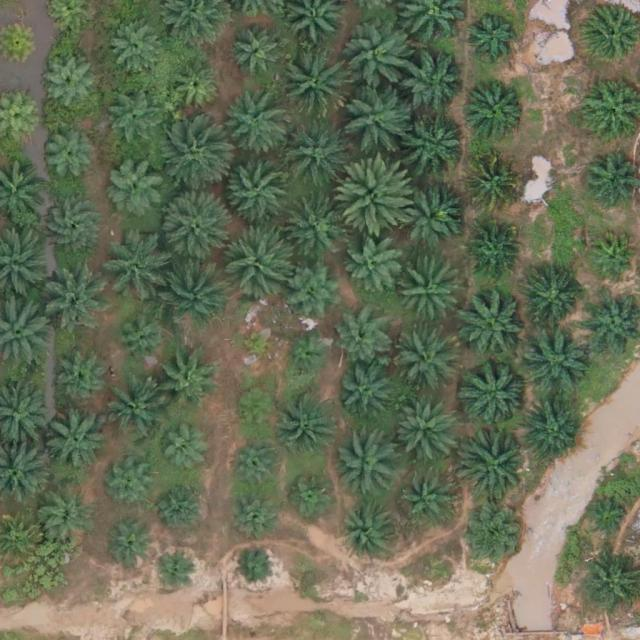Healthy: (339, 158, 417, 237), (520, 324, 591, 395), (281, 119, 352, 190), (459, 289, 529, 360), (461, 359, 532, 429), (340, 82, 410, 153), (279, 49, 349, 120), (222, 227, 292, 298), (159, 256, 229, 327), (41, 259, 111, 330), (344, 23, 415, 93), (461, 429, 531, 499), (219, 92, 289, 162), (223, 154, 293, 224), (157, 124, 227, 194), (159, 192, 229, 262), (462, 508, 525, 571), (392, 400, 455, 463), (279, 392, 342, 455), (520, 400, 582, 463), (465, 78, 527, 141), (407, 114, 469, 177), (397, 181, 460, 243), (398, 263, 460, 326), (395, 333, 457, 396), (337, 432, 399, 495), (284, 195, 346, 258), (285, 258, 347, 321), (155, 351, 217, 414), (101, 381, 163, 444), (105, 155, 168, 217), (101, 239, 163, 302), (42, 197, 104, 260), (45, 411, 107, 474), (404, 56, 466, 118), (583, 151, 638, 206), (527, 273, 582, 328), (403, 474, 458, 529), (342, 504, 397, 559), (335, 313, 390, 368), (226, 489, 281, 544), (168, 61, 223, 116), (114, 312, 169, 367), (105, 92, 160, 147), (40, 56, 95, 111), (40, 493, 95, 548), (464, 11, 519, 66), (231, 26, 286, 81), (466, 223, 520, 278), (346, 238, 400, 293), (337, 367, 391, 422), (232, 439, 286, 494), (41, 129, 95, 184), (55, 355, 109, 410), (110, 19, 164, 74)
Small: (234, 387, 281, 435), (159, 428, 206, 475), (160, 483, 207, 530), (289, 472, 336, 519), (284, 333, 331, 380), (109, 462, 156, 509), (107, 525, 154, 572), (590, 233, 637, 280), (586, 498, 633, 545), (238, 325, 277, 365), (153, 550, 192, 590), (236, 548, 275, 587)
Yellow: (464, 155, 519, 210)
